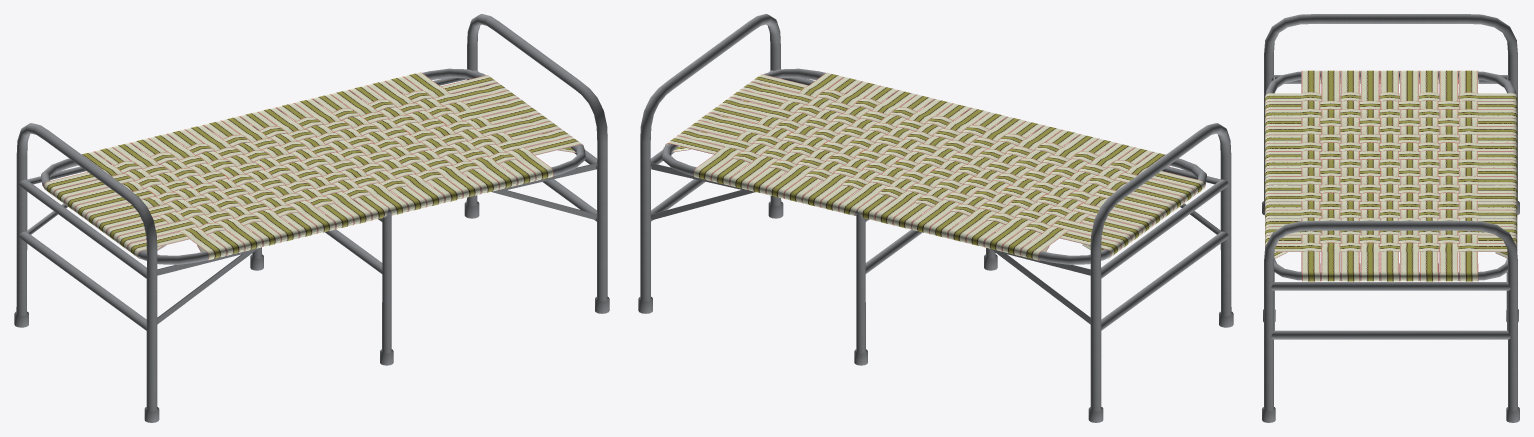
File: indian_bed_charpayi.obj
3 renders of one model, left to right at view 1: azimuth 30°, elevation 25°; view 2: azimuth 150°, elevation 25°; view 3: azimuth 270°, elevation 25°, orthographic. The views are drawn at different scales.
Parts seen in each view (by area): view 1: obj1; view 2: obj1; view 3: obj1.
Boxes of the visible parts, x1,y1,x2,y2 form: obj1: (14, 14, 609, 422); obj1: (638, 14, 1233, 422); obj1: (1262, 14, 1519, 422).
Size of the model in its own units: 236 by 103 by 121.
1 material, 1 textured.
